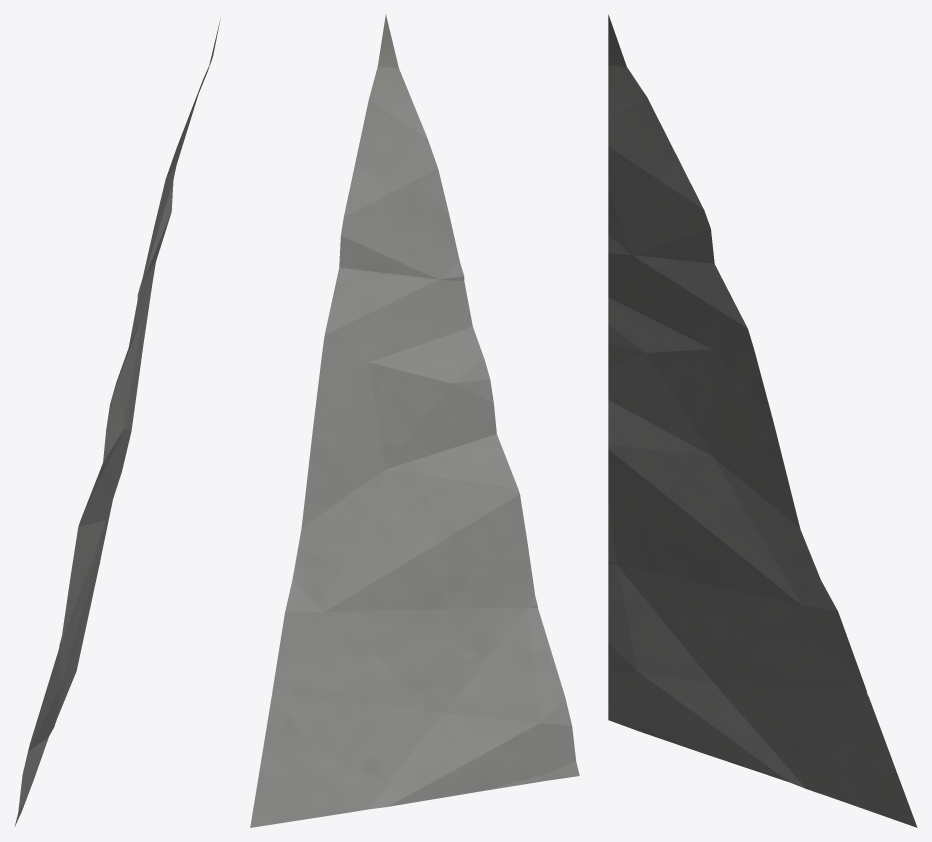
3 views of the same model, side by side, from view 1: azimuth 30°, elevation 25°; view 2: azimuth 150°, elevation 25°; view 3: azimuth 270°, elevation 25° (orthographic). The views are drawn at different scales.
Size of the model in its own units: 0.0952 by 0.3352 by 0.1154.
1 material, 1 textured.
